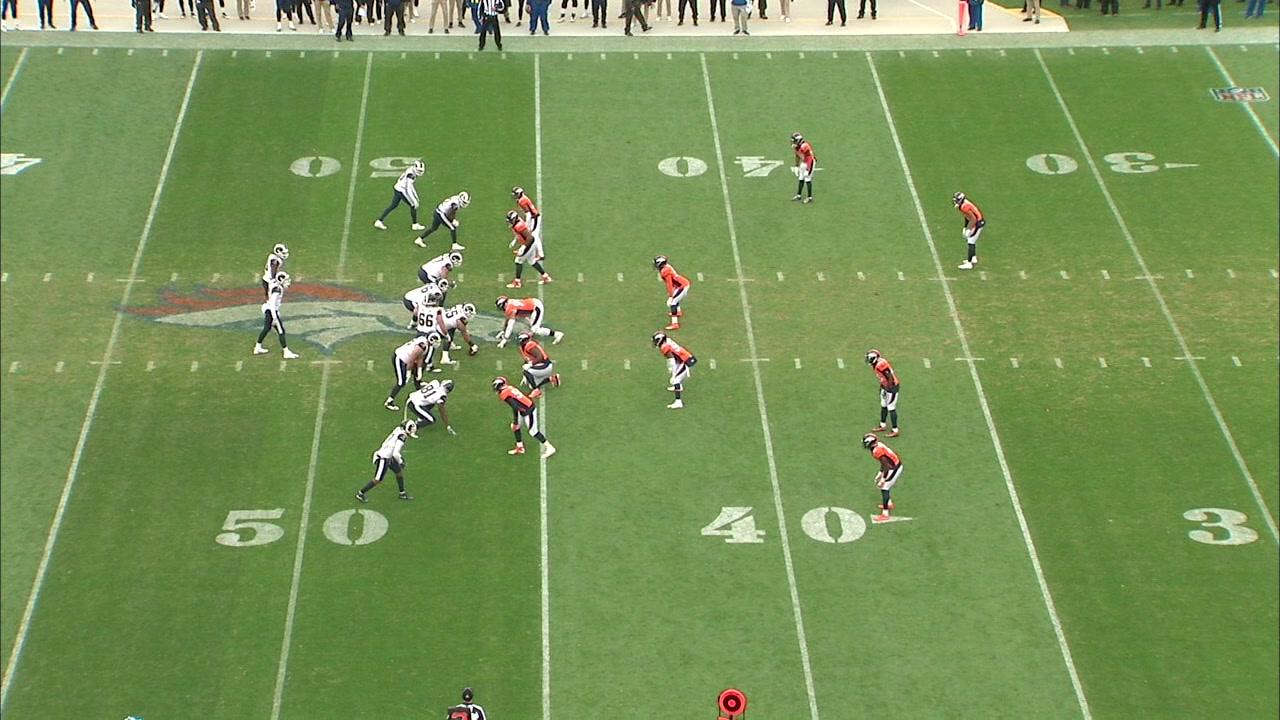player: (354, 416, 420, 506), (490, 374, 557, 461), (383, 330, 442, 414), (251, 271, 303, 361), (372, 158, 429, 234), (860, 432, 905, 523), (400, 377, 463, 441), (503, 209, 553, 289), (492, 295, 566, 349), (651, 332, 698, 413), (415, 188, 474, 252), (864, 347, 904, 440), (410, 291, 451, 375), (516, 329, 562, 402), (650, 252, 692, 331), (432, 301, 481, 365), (951, 188, 987, 272), (510, 183, 547, 263), (401, 276, 451, 332), (788, 130, 817, 206), (415, 250, 466, 288), (261, 241, 292, 299)
ref: (473, 0, 510, 53), (451, 683, 488, 720)
